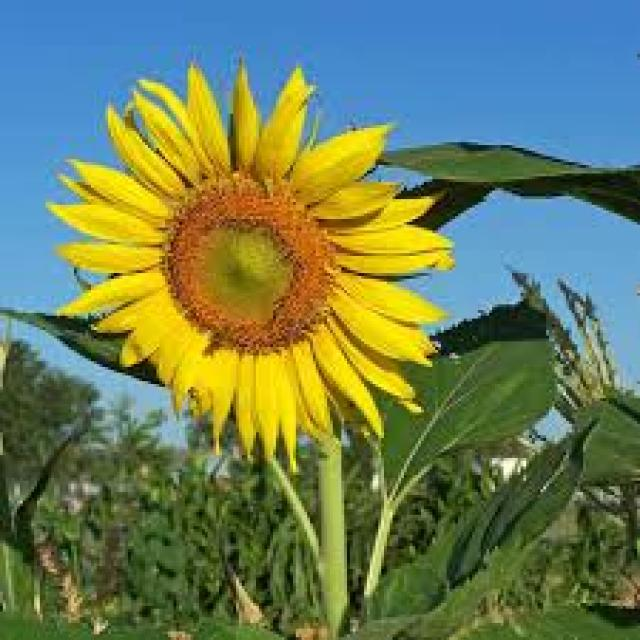sunflower: (40, 47, 462, 481)
